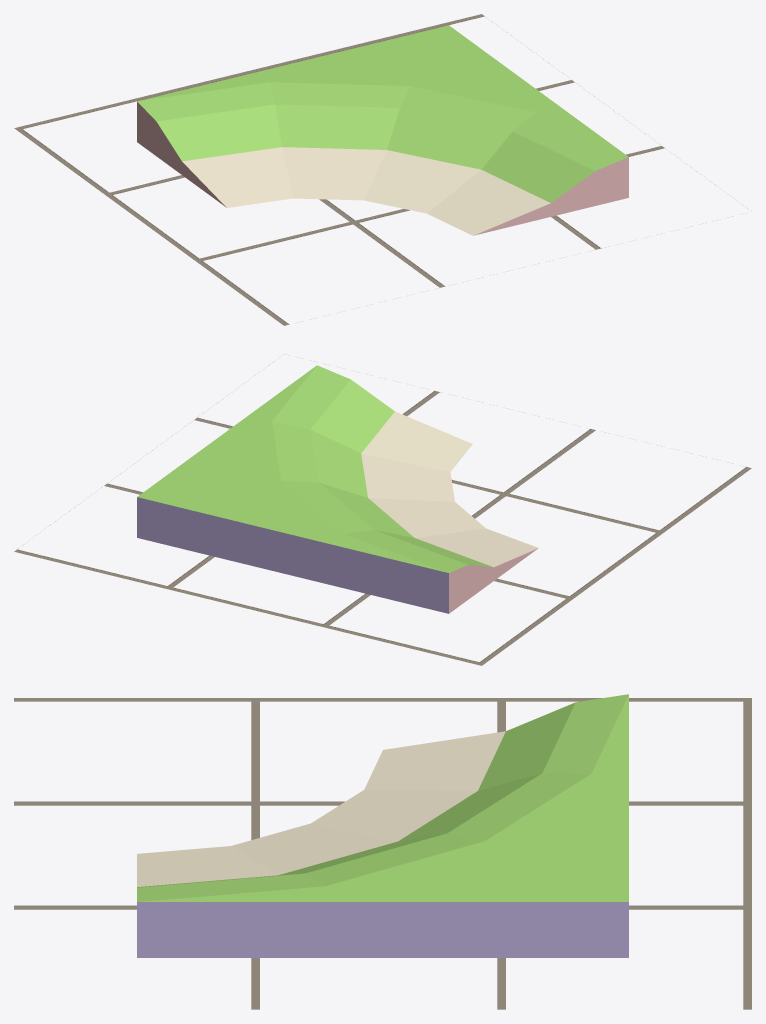
The model's file is Path_Terrain_Basic_Curve_Inner_2x2.glb.
3 views of the same model, one above another, from view 1: azimuth 30°, elevation 25°; view 2: azimuth 150°, elevation 25°; view 3: azimuth 270°, elevation 25° (orthographic). The views are drawn at different scales.
Parts seen in each view (by area): view 1: Path_Terrain_Basic_Curve_Inner_2x2, Floor; view 2: Path_Terrain_Basic_Curve_Inner_2x2, Floor; view 3: Path_Terrain_Basic_Curve_Inner_2x2, Floor.
Boxes of the visible parts, left/top/right/bottom form: Path_Terrain_Basic_Curve_Inner_2x2: left=137, top=25, right=628, bottom=235; Floor: left=14, top=14, right=747, bottom=325; Path_Terrain_Basic_Curve_Inner_2x2: left=137, top=365, right=538, bottom=613; Floor: left=14, top=365, right=751, bottom=665; Path_Terrain_Basic_Curve_Inner_2x2: left=137, top=694, right=628, bottom=957; Floor: left=14, top=698, right=751, bottom=1009.
Bounding box in the file's own units: 300 × 25 × 300.
6 materials, 1 textured.
